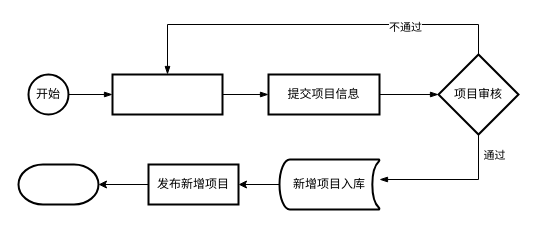
Image size: 536x230. Some labels were removed from this diagram. Here are the shapes that lost their labels. From the top down, the centre of each, then its label:
[167,94]: 品牌商填写 项目信息
[58,184]: 结束
